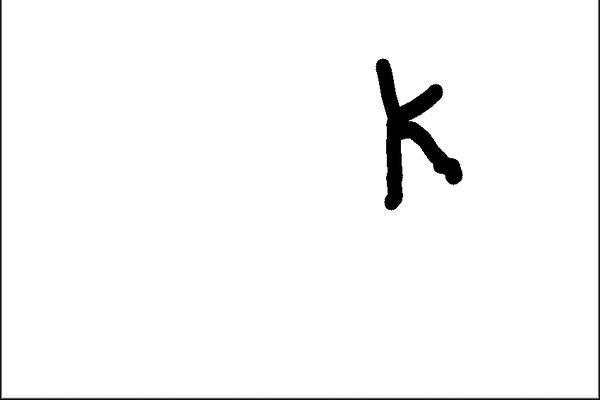K: (369, 52, 467, 214)
